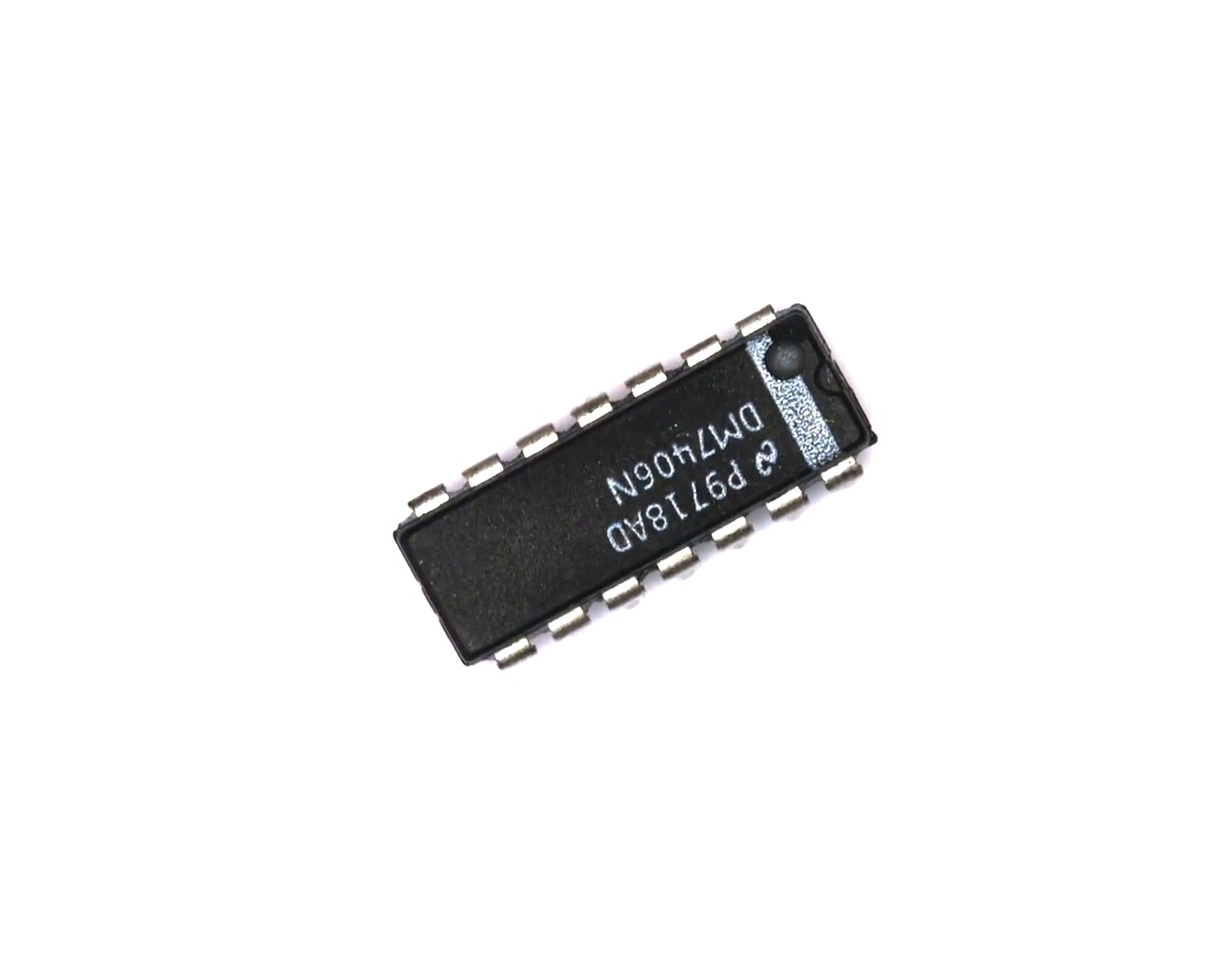IC: (360, 272, 917, 703)
notch: (812, 354, 854, 402)
